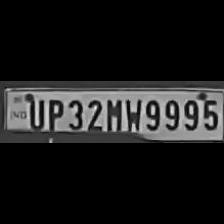2: (84, 96, 104, 132)
3: (64, 97, 84, 131)
5: (200, 96, 220, 130)
9: (142, 97, 160, 131), (162, 97, 180, 131), (180, 97, 198, 131)
M: (104, 96, 122, 132)
P: (44, 96, 64, 130)
U: (24, 96, 43, 128)
W: (122, 96, 142, 132)
